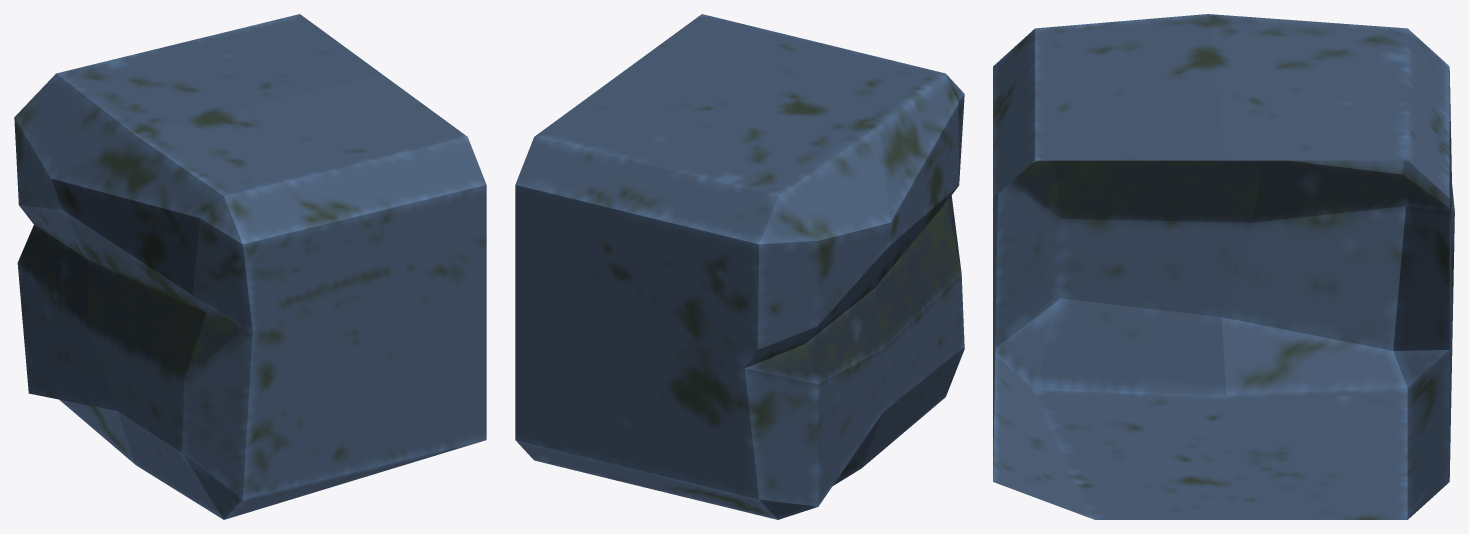
The model's file is Cegla_7.fbx.
3 views of the same model, side by side, from view 1: azimuth 30°, elevation 25°; view 2: azimuth 150°, elevation 25°; view 3: azimuth 270°, elevation 25° (orthographic). The views are drawn at different scales.
Parts seen in each view (by area): view 1: Cegla_7; view 2: Cegla_7; view 3: Cegla_7.
Boxes of the visible parts, <box> form: Cegla_7: <box>14,14,486,519</box>; Cegla_7: <box>515,14,964,519</box>; Cegla_7: <box>993,14,1454,519</box>.
Bounding box in the file's own units: 196 × 209 × 233.
